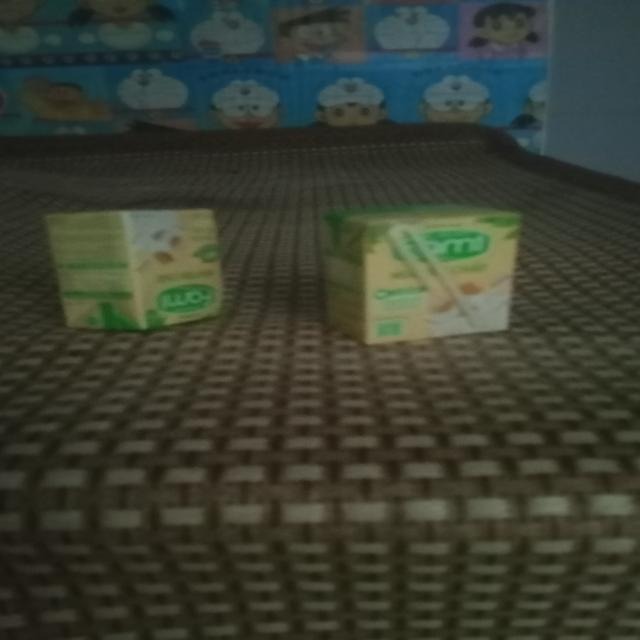Fami: (323, 196, 523, 348), (51, 198, 229, 334)
